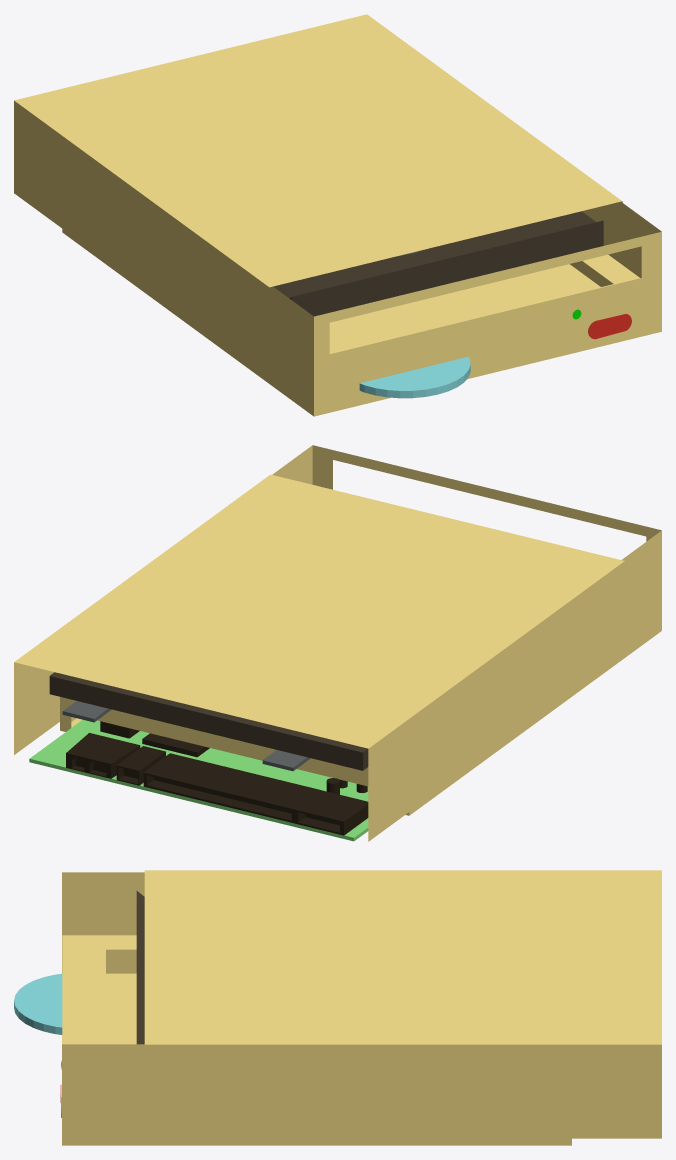
The model's file is Modelo de Lector de CD.glb.
The picture shows the model from 3 angles, top to bottom: view 1: azimuth 30°, elevation 25°; view 2: azimuth 150°, elevation 25°; view 3: azimuth 270°, elevation 25°; orthographic projection.
Visible parts, largest first — view 1: Carcasa Protectora, Lector, Bandeja, Lector.001, Rueda Vol, Soporte Interno, Boton; view 2: Carcasa Protectora, Cubo, Lector.001, Bandeja, Placa Interna Lector, Lector, Soporte Lector, Chip, Cubo.001; view 3: Carcasa Protectora, Lector.001, Soporte Interno, Rueda Vol, Lector, Bandeja.
Boxes of the visible parts, <box> form: Carcasa Protectora: <box>14,14,622,379</box>; Lector: <box>314,231,661,416</box>; Bandeja: <box>273,211,603,316</box>; Lector.001: <box>62,201,661,416</box>; Rueda Vol: <box>359,356,470,398</box>; Soporte Interno: <box>329,254,639,353</box>; Boton: <box>588,314,631,339</box>; Carcasa Protectora: <box>14,474,624,841</box>; Cubo: <box>66,733,368,835</box>; Lector.001: <box>60,445,661,815</box>; Bandeja: <box>49,672,368,770</box>; Placa Interna Lector: <box>29,720,368,841</box>; Lector: <box>71,445,661,727</box>; Soporte Lector: <box>62,701,310,771</box>; Chip: <box>100,721,209,757</box>; Cubo.001: <box>116,746,165,785</box>; Carcasa Protectora: <box>144,870,661,1138</box>; Lector.001: <box>62,872,571,1145</box>; Soporte Interno: <box>62,935,136,1044</box>; Rueda Vol: <box>14,973,62,1034</box>; Lector: <box>62,973,136,1044</box>; Bandeja: <box>136,891,144,1044</box>.
Size of the model in its own units: 6.19 by 1.68 by 9.71.
